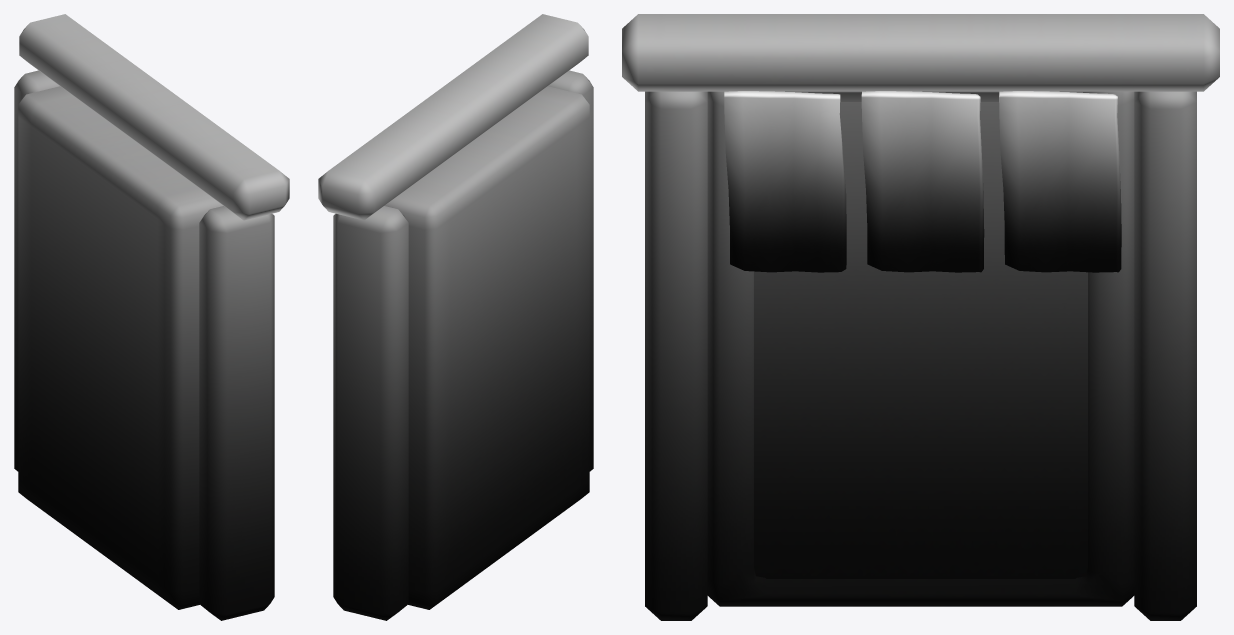
Rendered from SM_Wood_Door_01.fbx.
The picture shows the model from 3 angles, left to right: view 1: azimuth 30°, elevation 25°; view 2: azimuth 150°, elevation 25°; view 3: azimuth 270°, elevation 25°; orthographic projection. The views are drawn at different scales.
Visible parts, largest first — view 1: SM_Wood_Door_01; view 2: SM_Wood_Door_01; view 3: SM_Wood_Door_01.
Part boxes in pixels (<box>): SM_Wood_Door_01: <box>14,14,289,620</box>; SM_Wood_Door_01: <box>318,14,593,620</box>; SM_Wood_Door_01: <box>622,14,1219,620</box>.
Size of the model in its own units: 0.1268 by 0.5786 by 0.5325.
